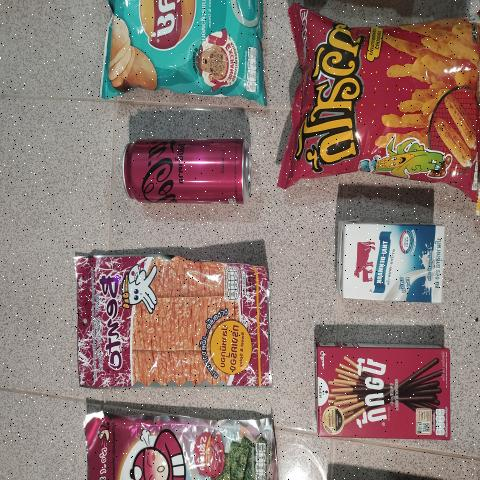bento_red: (78, 258, 266, 385)
coke_red: (118, 135, 254, 208)
lay_blue: (97, 0, 268, 104)
pokki: (317, 348, 450, 437)
thai_denmark: (338, 222, 450, 300)
twisco: (285, 25, 480, 185)
